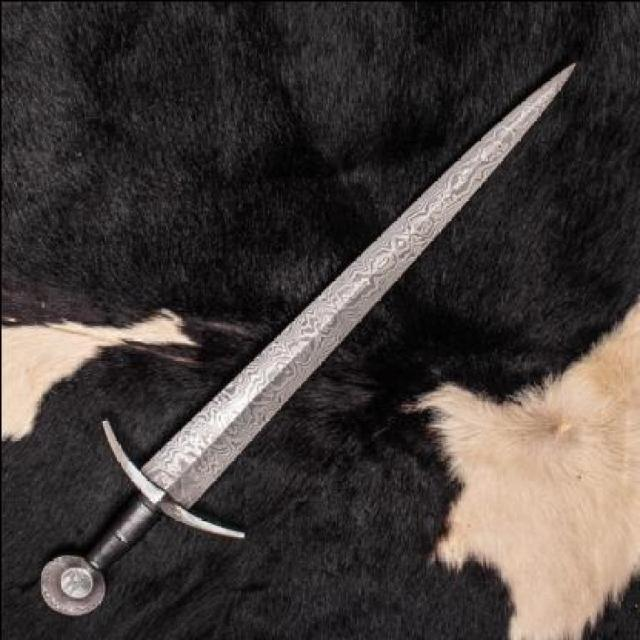weapon: (37, 59, 577, 616)
